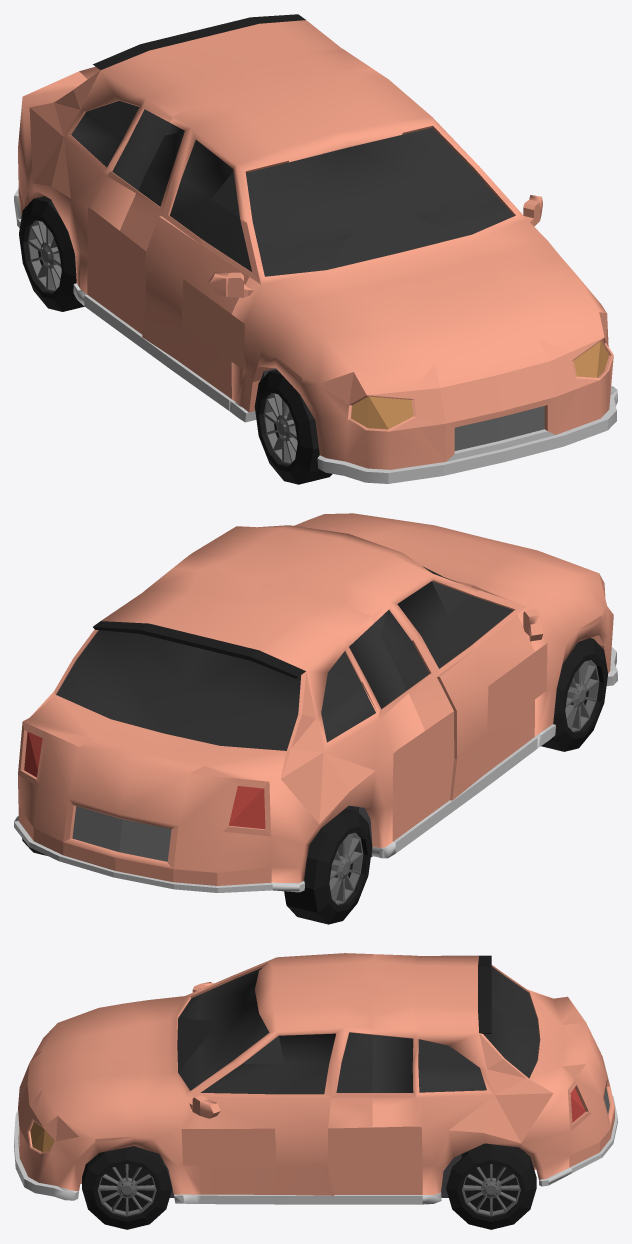
Rendered from compact.fbx.
3 renders of one model, top to bottom at view 1: azimuth 30°, elevation 25°; view 2: azimuth 150°, elevation 25°; view 3: azimuth 270°, elevation 25°, orthographic. The views are drawn at different scales.
Parts seen in each view (by area): view 1: Body, Door_FR, Wheel_FR, Wheel_RR; view 2: Body, Door_FR, Wheel_RR, Wheel_FR; view 3: Body, Door_FL, Wheel_RL, Wheel_FL.
Boxes of the visible parts, x1=… form: Body: x1=14, y1=14, x2=617, y2=483; Door_FR: x1=116, y1=129, x2=255, y2=410; Wheel_FR: x1=254, y1=369, x2=332, y2=484; Wheel_RR: x1=19, y1=196, x2=84, y2=311; Body: x1=14, y1=513, x2=617, y2=892; Door_FR: x1=380, y1=580, x2=542, y2=829; Wheel_RR: x1=284, y1=808, x2=372, y2=924; Wheel_FR: x1=541, y1=638, x2=607, y2=751; Body: x1=14, y1=953, x2=617, y2=1204; Door_FL: x1=201, y1=1027, x2=372, y2=1204; Wheel_RL: x1=446, y1=1143, x2=536, y2=1229; Wheel_FL: x1=82, y1=1146, x2=172, y2=1229.
Bounding box in the file's own units: 1.96 × 1.37 × 3.95.
